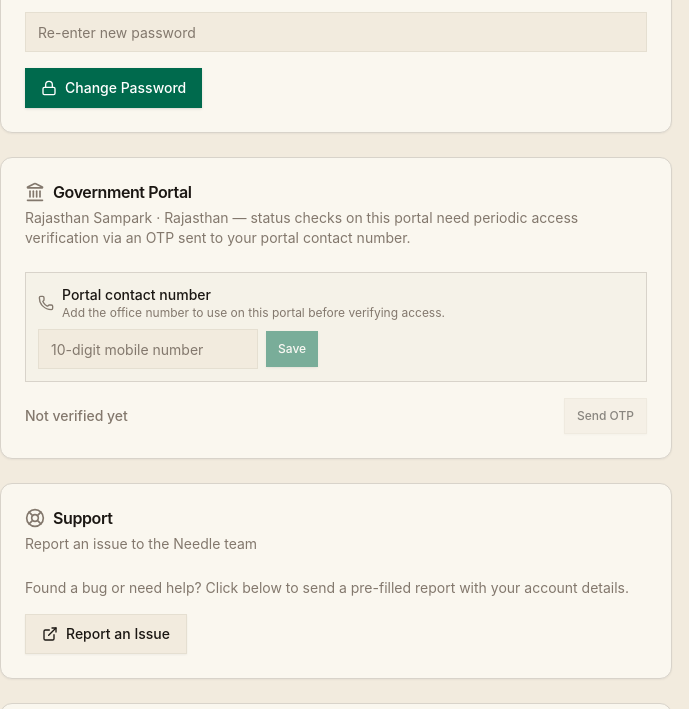
Test: Government portal contact number — saving › persists the number and updates the display without a page refresh
(page scrolled)
Check: the heading "Government Portal" is shown, box [53,184,192,200]
Type "9876543210" into the field with placeholder "10-digit mobile number" at (148, 349), box [38,329,258,369]
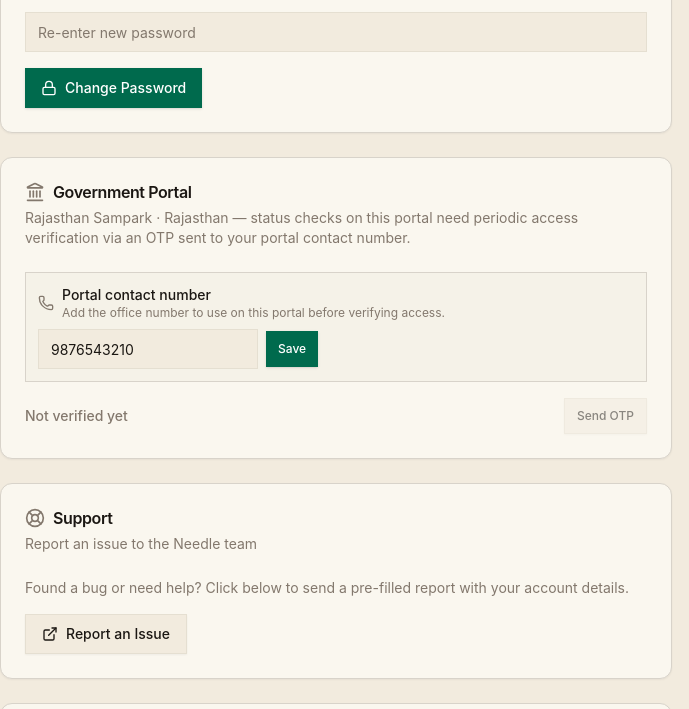
Click the button "Save" at (292, 349), box [266,331,318,367]
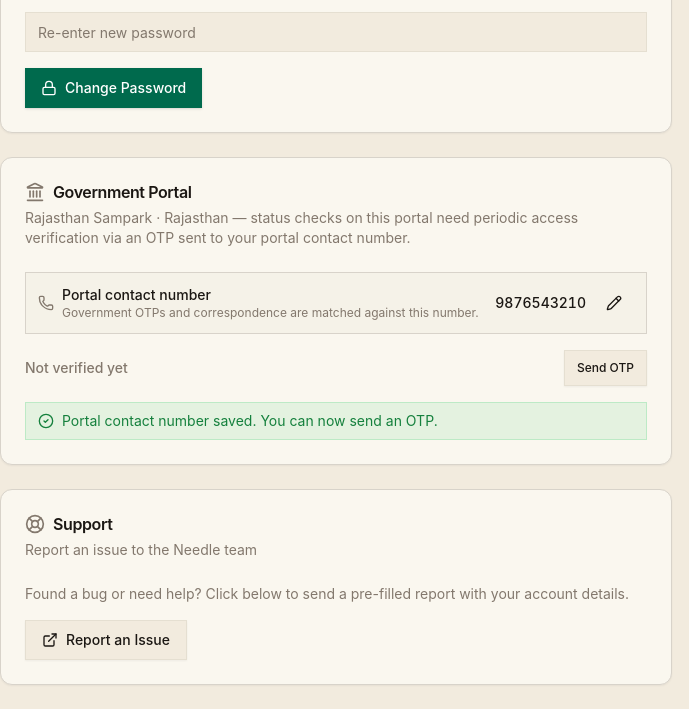
Check: the text "9876543210" is shown, box [495,293,586,313]
Check: the text "Portal contact number saved. You can now send an OTP." is shown, box [25,402,647,440]
